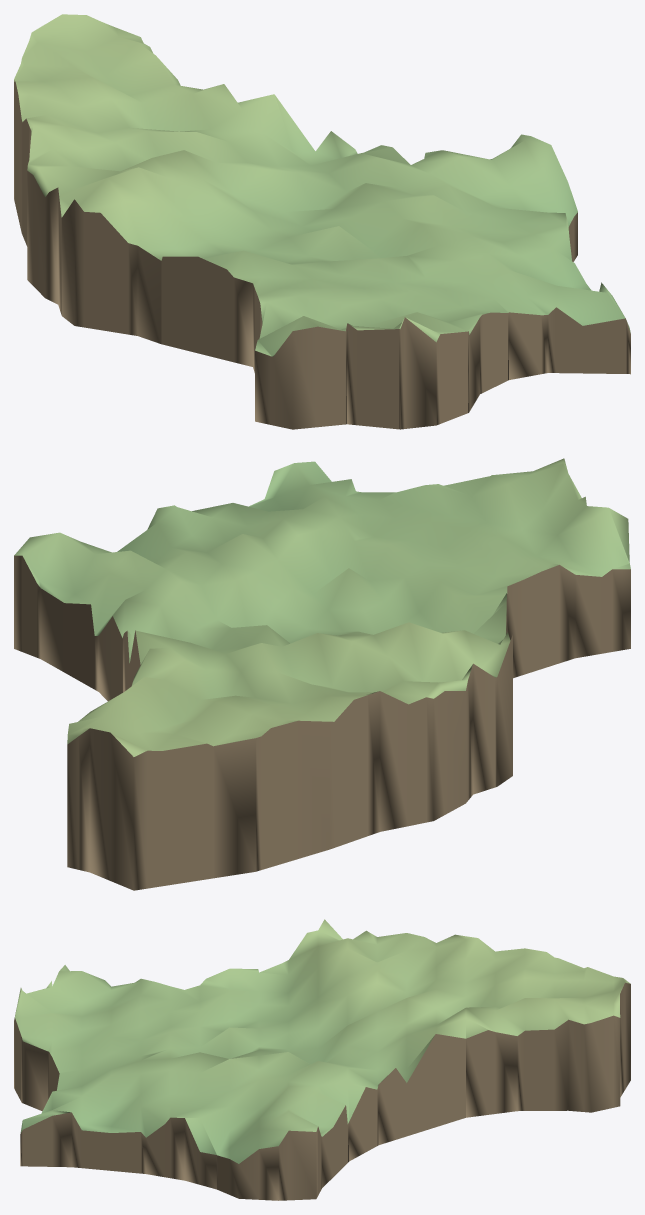
The model's file is LUX.glb.
The picture shows the model from 3 angles, top to bottom: view 1: azimuth 30°, elevation 25°; view 2: azimuth 150°, elevation 25°; view 3: azimuth 270°, elevation 25°; orthographic projection. The views are drawn at different scales.
Parts seen in each view (by area): view 1: LUX; view 2: LUX; view 3: LUX.
Boxes of the visible parts, <box> form: LUX: <box>14,14,630,429</box>; LUX: <box>14,458,630,890</box>; LUX: <box>14,919,630,1200</box>.
Size of the model in its own units: 1.21 by 0.338 by 1.76.
